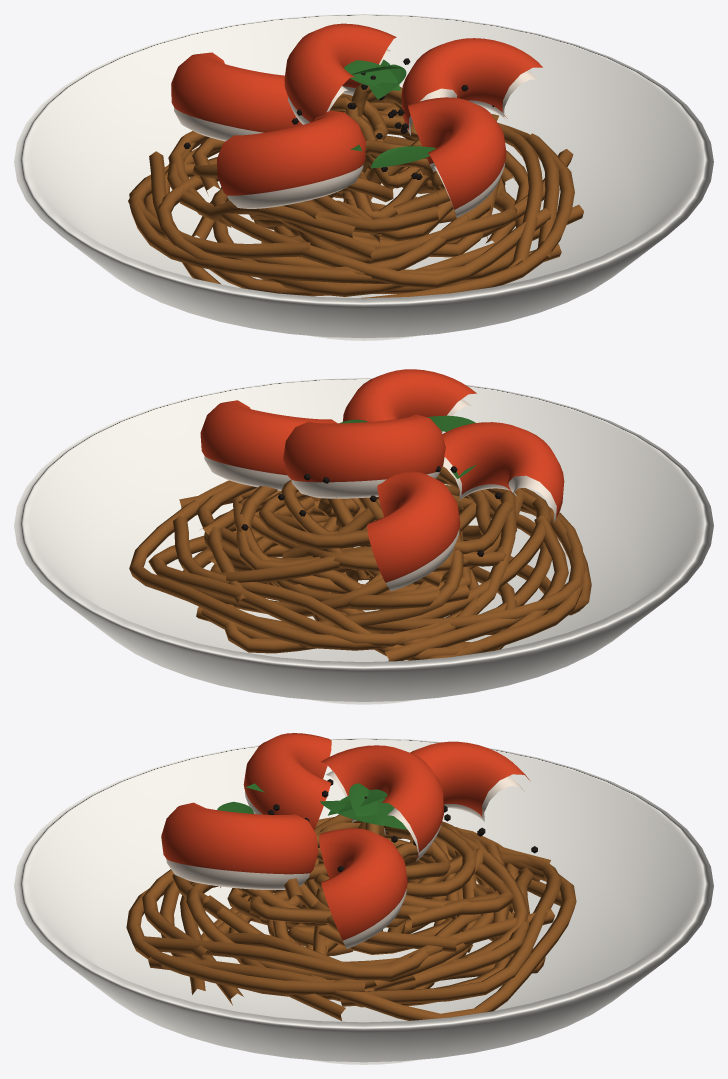
Rendered from lobster-noodles.glb.
3 renders of one model, top to bottom at view 1: azimuth 30°, elevation 25°; view 2: azimuth 150°, elevation 25°; view 3: azimuth 270°, elevation 25°, orthographic.
Visible parts, largest first — view 1: porcelain, noodles_kecap_butter, lobster_shell, lobster_meat, basil, black_pepper; view 2: porcelain, noodles_kecap_butter, lobster_shell, lobster_meat, basil; view 3: porcelain, noodles_kecap_butter, lobster_shell, lobster_meat, basil.
Part boxes in pixels (bbox=[...]): porcelain: bbox=[14, 14, 713, 340]; noodles_kecap_butter: bbox=[128, 84, 583, 298]; lobster_shell: bbox=[171, 23, 542, 213]; lobster_meat: bbox=[174, 49, 537, 217]; basil: bbox=[344, 59, 436, 168]; black_pepper: bbox=[183, 58, 494, 179]; porcelain: bbox=[14, 378, 713, 704]; noodles_kecap_butter: bbox=[129, 466, 591, 661]; lobster_shell: bbox=[200, 369, 564, 582]; lobster_meat: bbox=[204, 399, 556, 591]; basil: bbox=[339, 415, 476, 478]; porcelain: bbox=[14, 738, 713, 1064]; noodles_kecap_butter: bbox=[126, 814, 576, 1020]; lobster_shell: bbox=[161, 733, 529, 940]; lobster_meat: bbox=[166, 771, 524, 948]; basil: bbox=[217, 783, 407, 829].
Bounding box in the file's own units: 0.26 × 0.0993 × 0.26.
